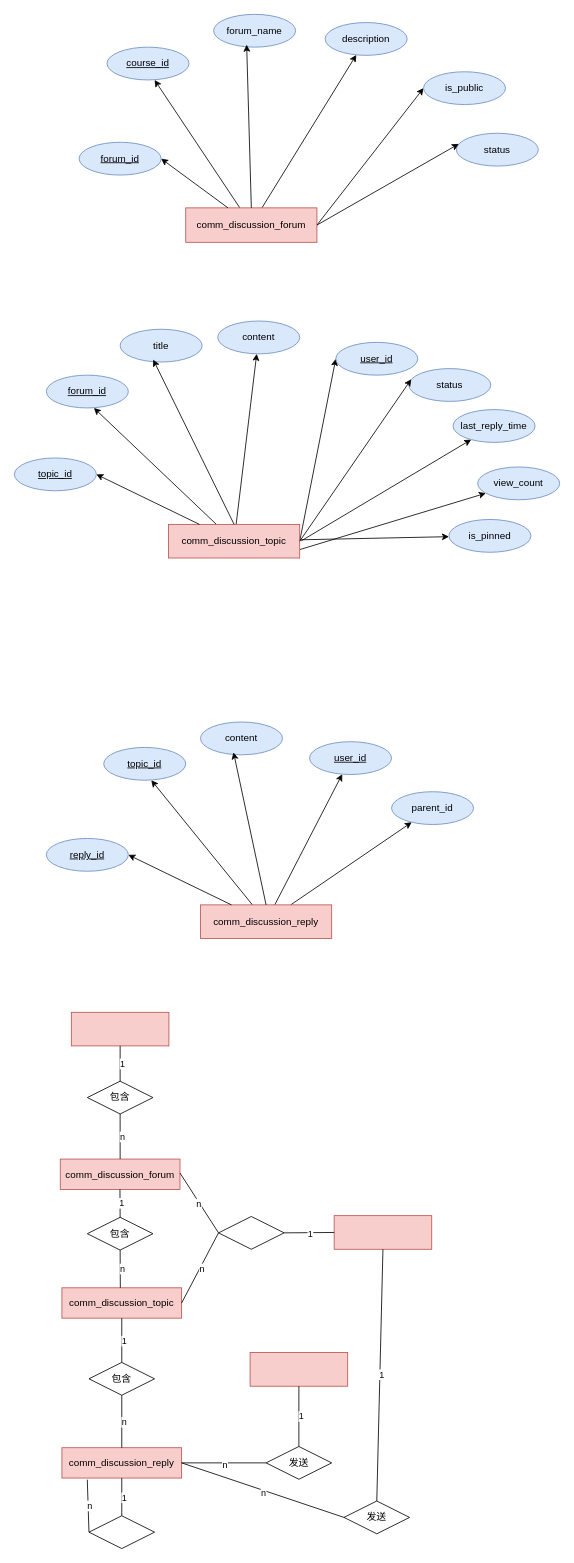
Image size: 574x1563. Some labels were removed from this diagram. Here are the shapes that lost their labels. From the top down, the box of each, then its label:
(71, 1011, 169, 1046): edu_course
(218, 1216, 284, 1249): 创建
(333, 1215, 432, 1249): edu_teacher
(249, 1352, 348, 1386): edu_student
(88, 1515, 155, 1549): 回复
